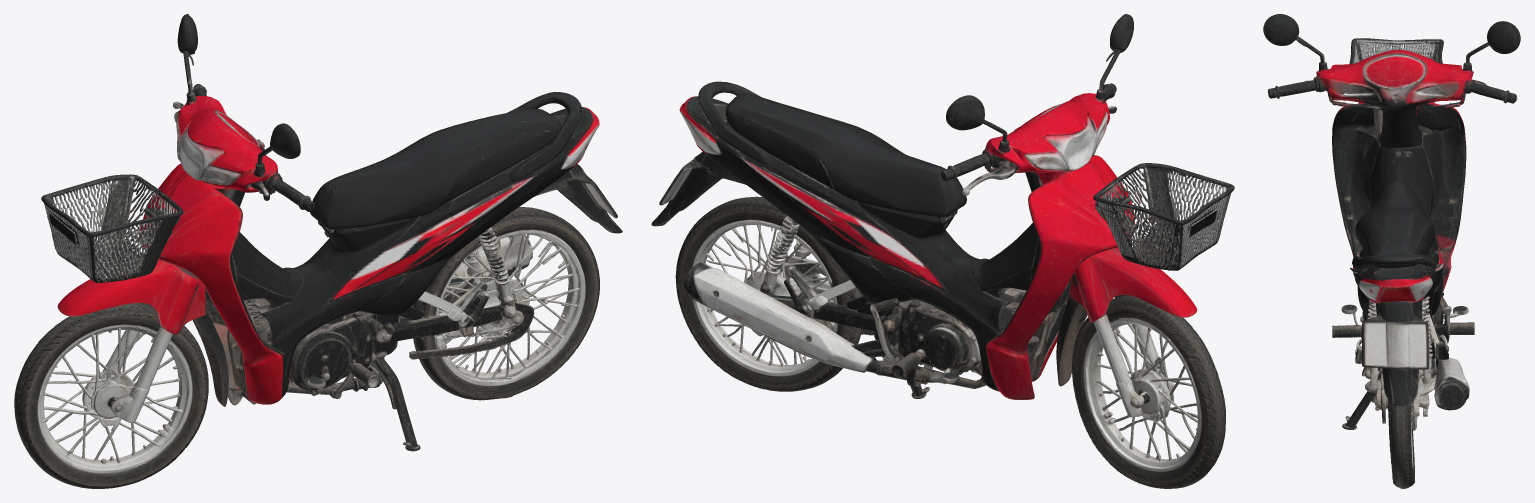
Rendered from original-moto.glb.
3 renders of one model, left to right at view 1: azimuth 30°, elevation 25°; view 2: azimuth 150°, elevation 25°; view 3: azimuth 270°, elevation 25°, orthographic. The views are drawn at different scales.
Visible parts, largest first — view 1: Mesh_0; view 2: Mesh_0; view 3: Mesh_0.
Boxes of the visible parts, <box> form: Mesh_0: <box>14,14,622,488</box>; Mesh_0: <box>651,14,1234,488</box>; Mesh_0: <box>1263,14,1520,488</box>.
Size of the model in its own units: 1.9 by 1.24 by 0.8288.
1 material, 1 textured.
